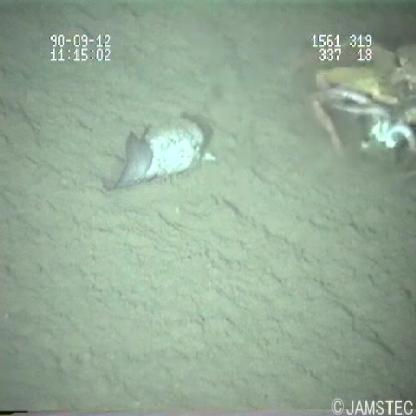Bio: (308, 41, 416, 167), (98, 107, 222, 196)
